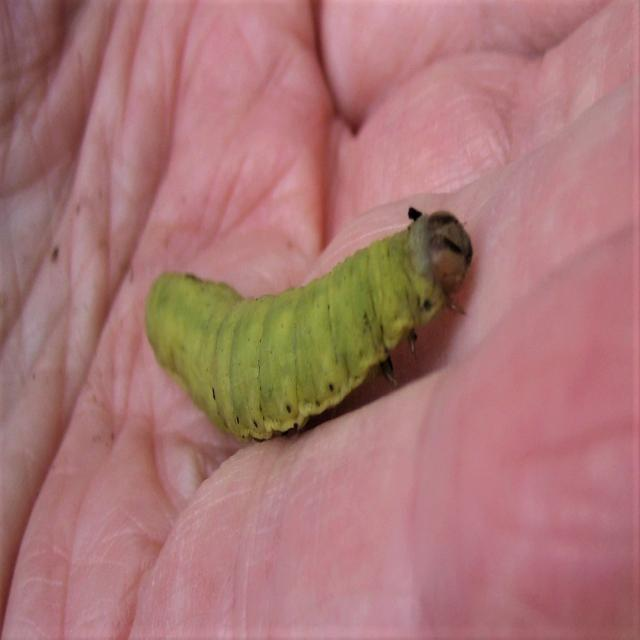worm: (145, 203, 474, 444)
